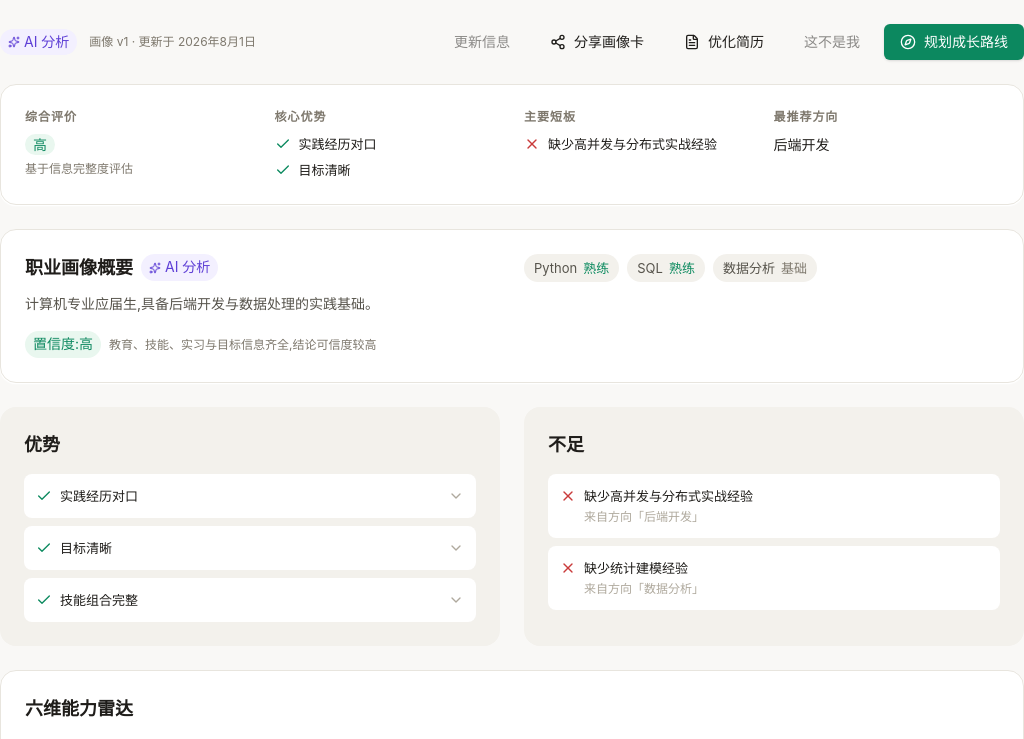
Test: ProfileResult › 分享画像卡(6.8):Hero 按钮打开分享对话框,卡片数据与页面同源
The width and height of the screenshot is (1024, 739).
Click the button "分享画像卡". click: x=597, y=42
box: [534,24,660,60]
(page scrolled)
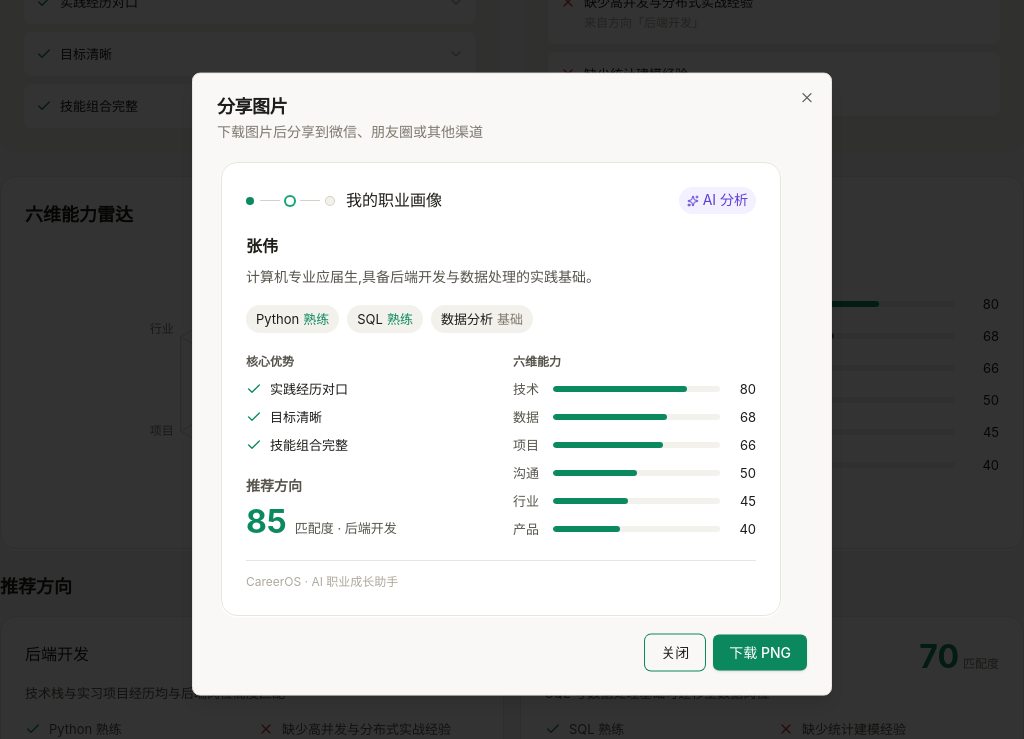
Expected: the heading "分享图片" is shown, [217,96,287,117]
Expected: the text "下载图片后分享到微信、朋友圈或其他渠道" is shown, [217,123,483,140]
Expected: the text "张伟" is shown, [246,236,278,256]
